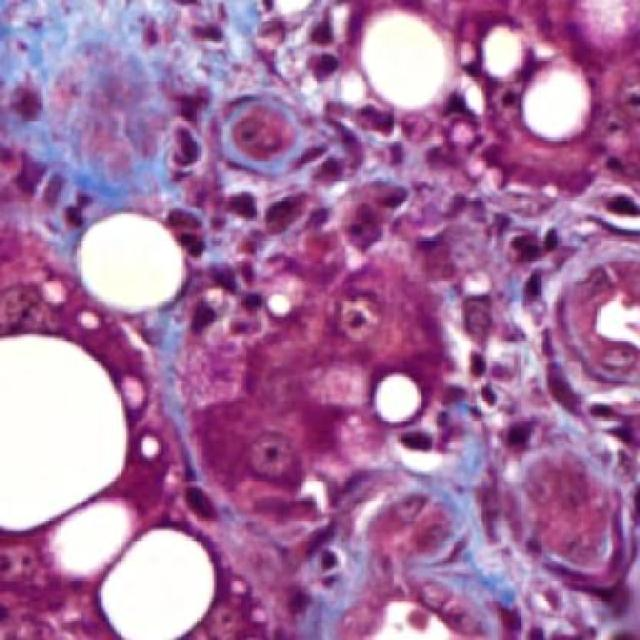steatosis: (351, 9, 458, 115), (79, 211, 186, 314)
